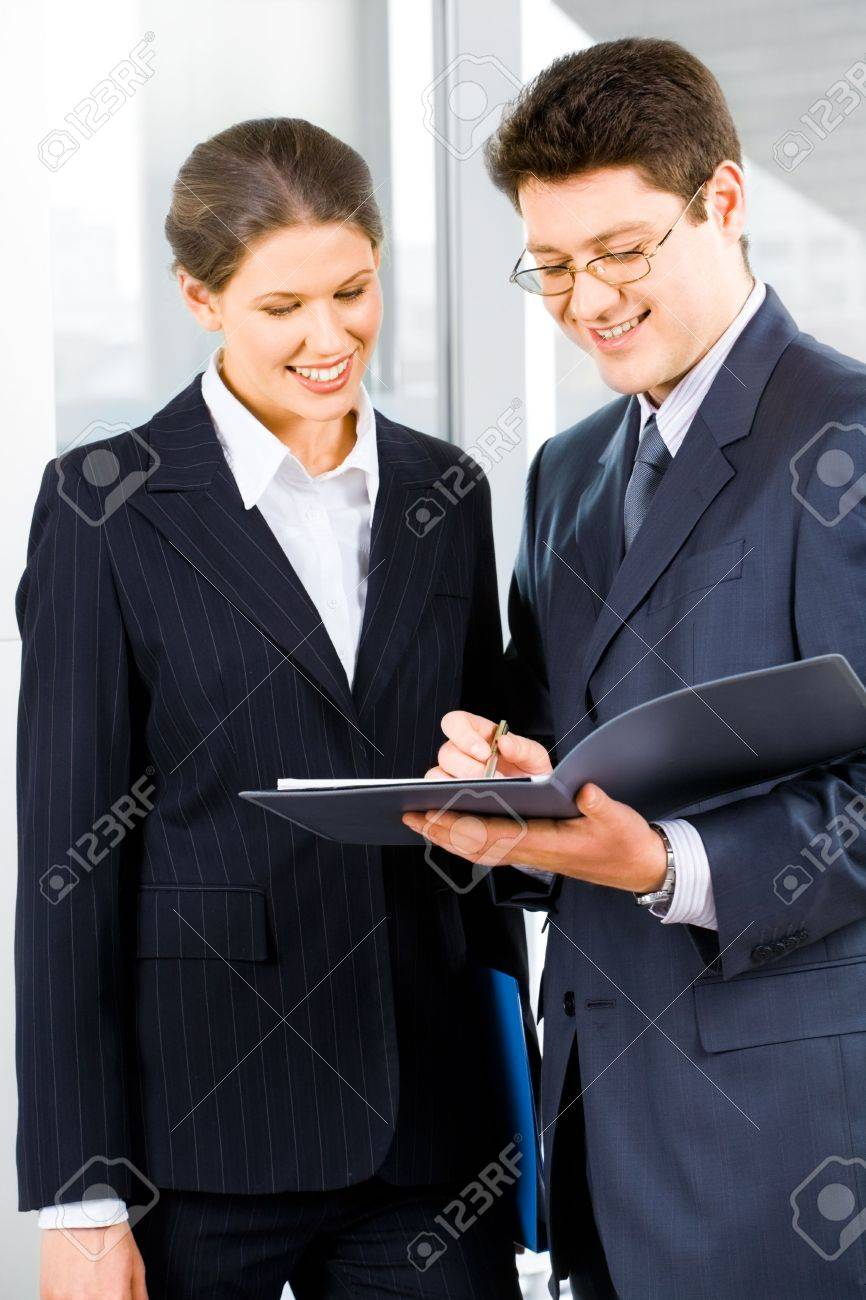person: (94, 98, 442, 640), (455, 57, 799, 552)
